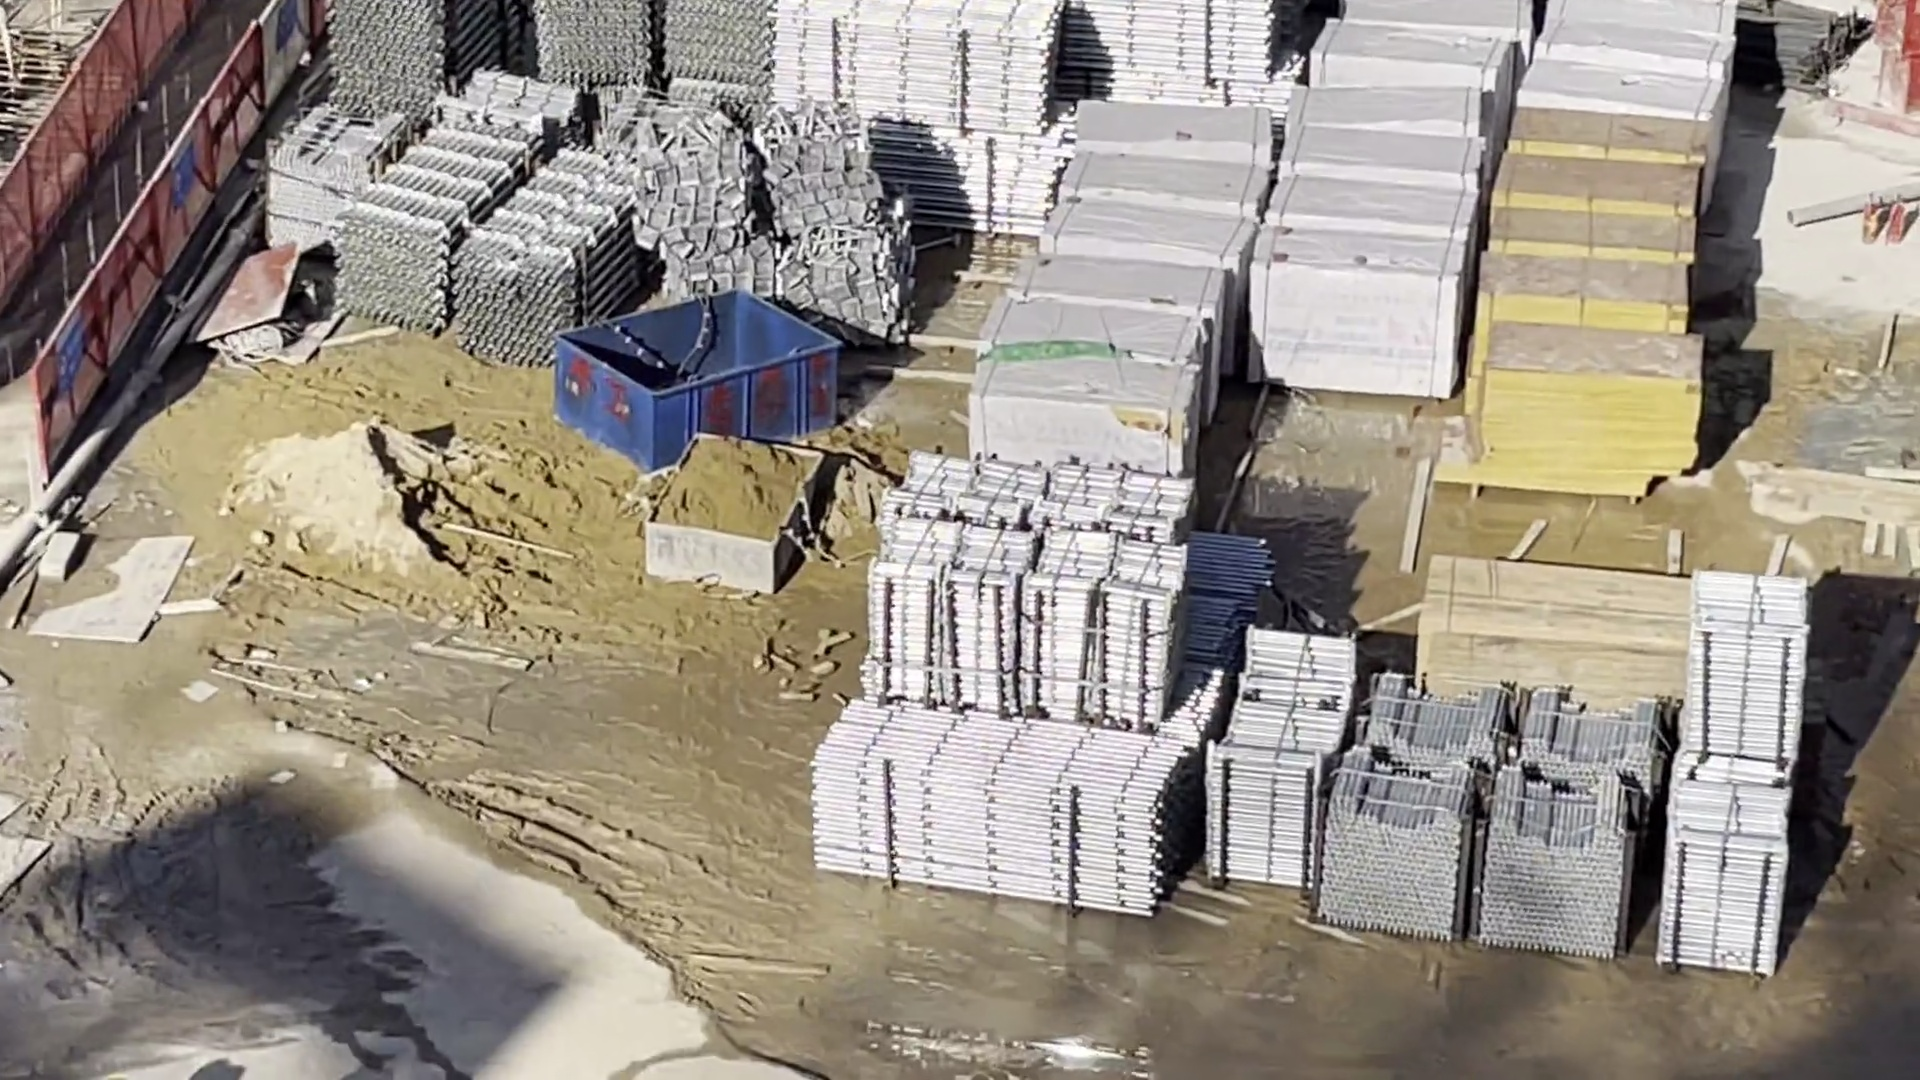board: (1462, 119, 1687, 496), (1420, 560, 1687, 695)
fence: (4, 3, 316, 448)
hopper: (554, 291, 837, 473), (646, 440, 828, 588)
rebar: (1735, 1, 1855, 100)
scaffold: (1340, 683, 1655, 968), (865, 456, 1174, 731), (815, 702, 1182, 919), (766, 1, 1065, 243), (345, 127, 640, 356), (1676, 572, 1782, 971), (1069, 1, 1302, 127), (1221, 621, 1329, 886), (533, 1, 749, 117), (328, 1, 524, 103)
slogan: (55, 306, 82, 389), (169, 135, 189, 211)
